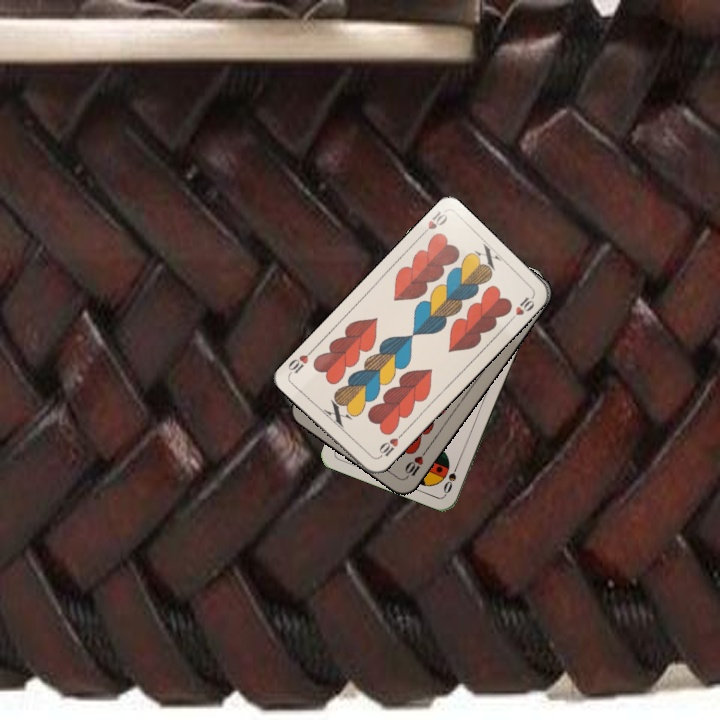H10: (415, 207, 450, 240), (374, 429, 406, 462), (400, 446, 430, 481)
SO: (439, 457, 462, 496)
